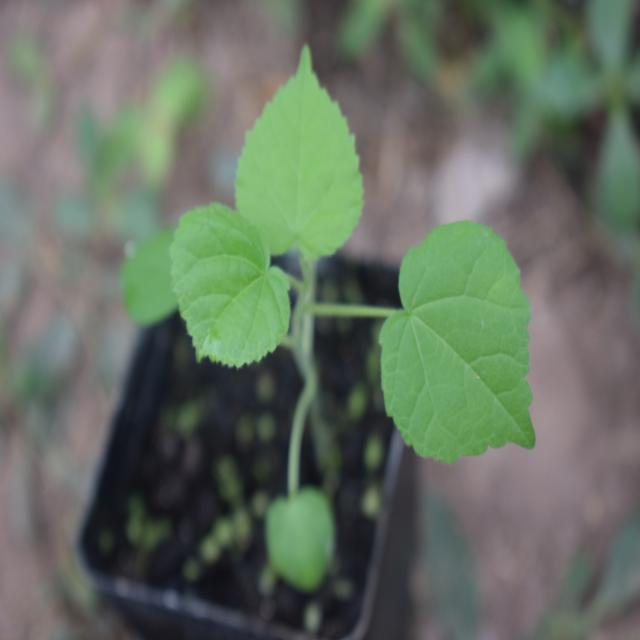abutilon theophrasti: (103, 62, 536, 471)
